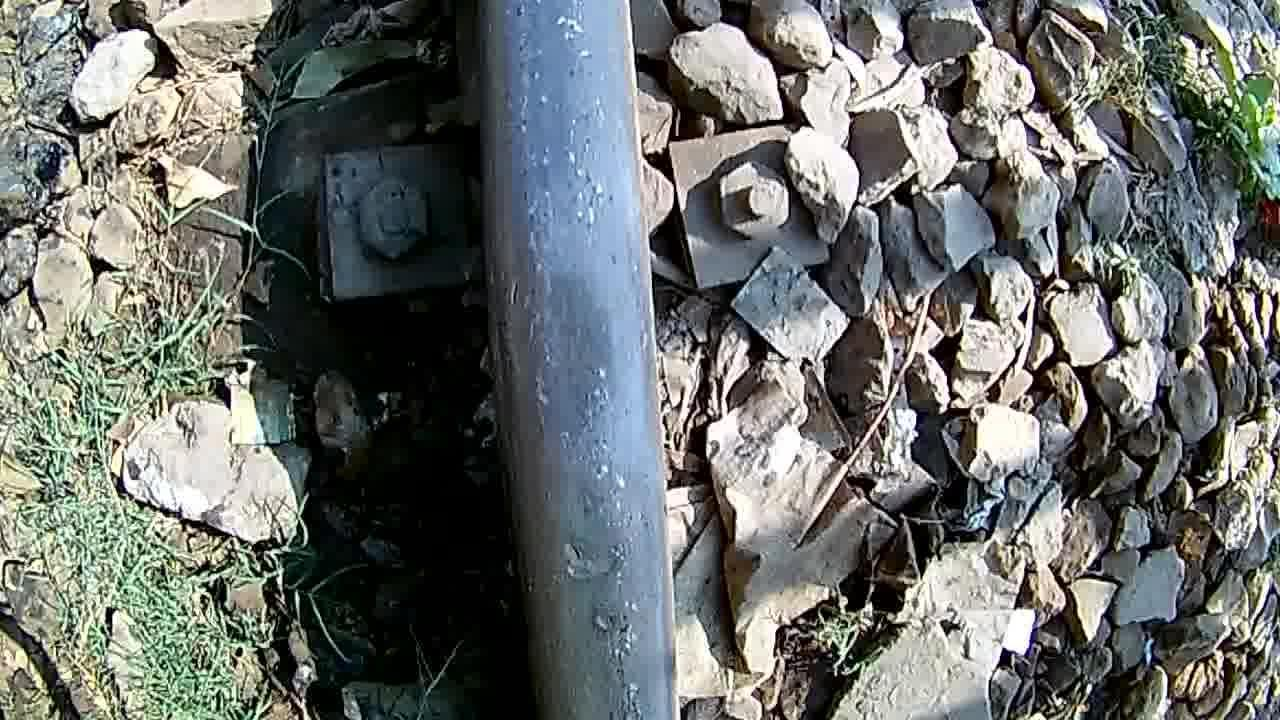crack: (482, 3, 656, 720)
